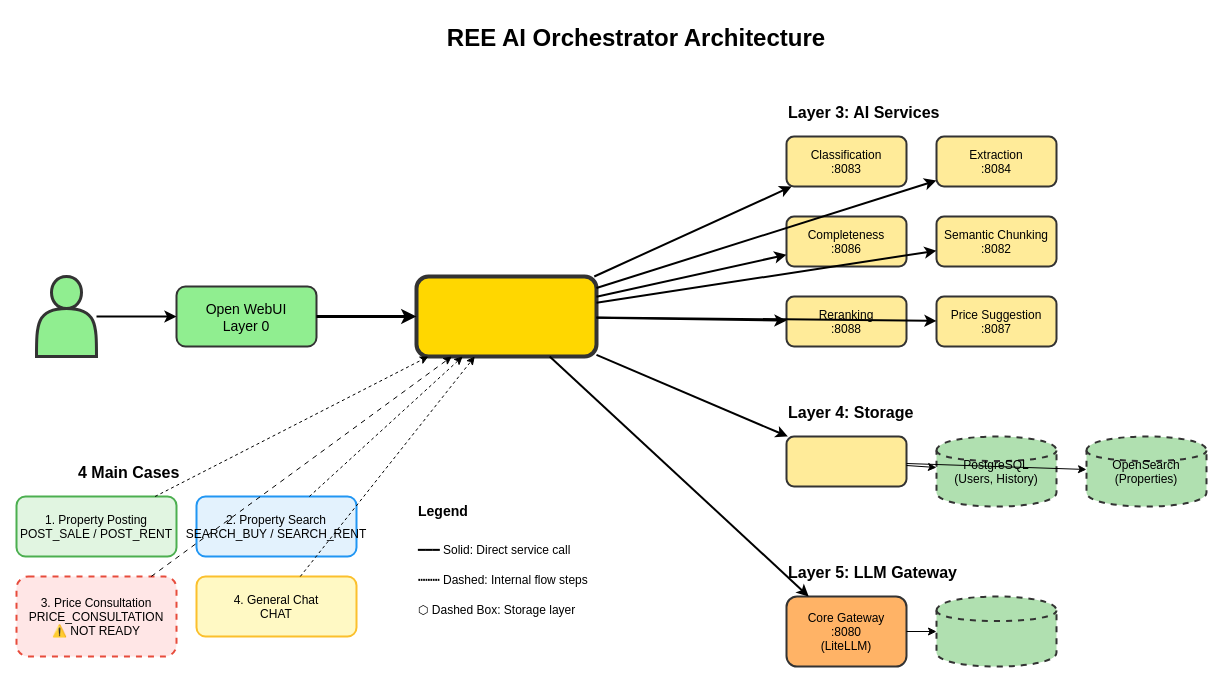
The diagram is 1223 pixels wide and 683 high, and some of its shapes have lost their labels. Here are the shapes that lost their labels. From the top down, the centre of each, then its label:
At point 66,316: "USER".
At point 506,316: "Orchestrator Layer 2 Central Routing".
At point 846,461: "DB Gateway :8081".
At point 996,631: "Ollama / OpenAI".
